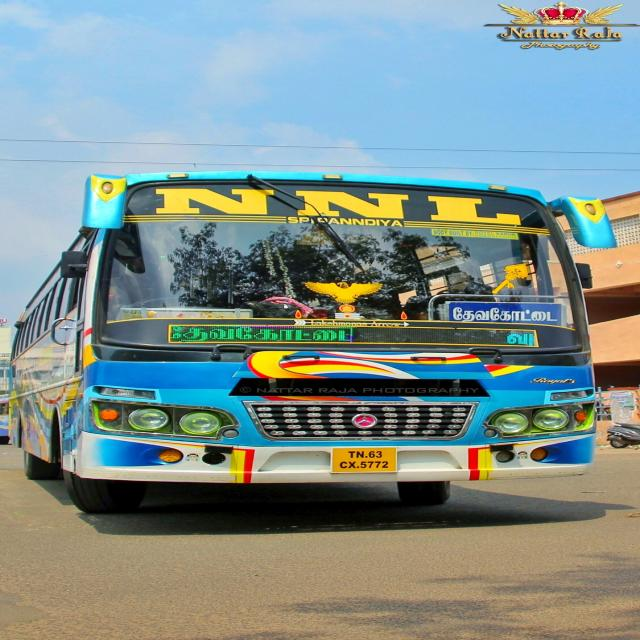Plate: (334, 446, 395, 472)
bus: (15, 164, 599, 516)
